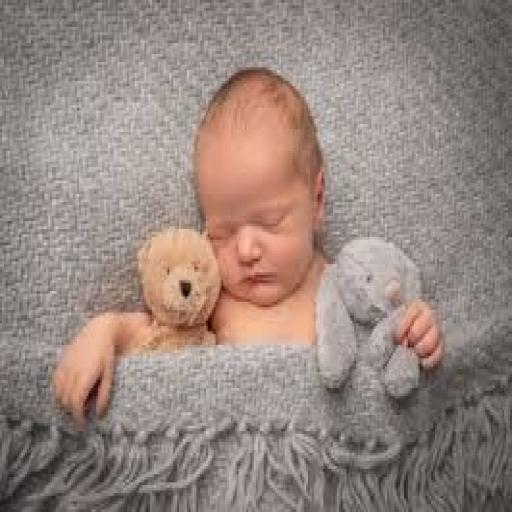baby: (193, 68, 327, 344)
